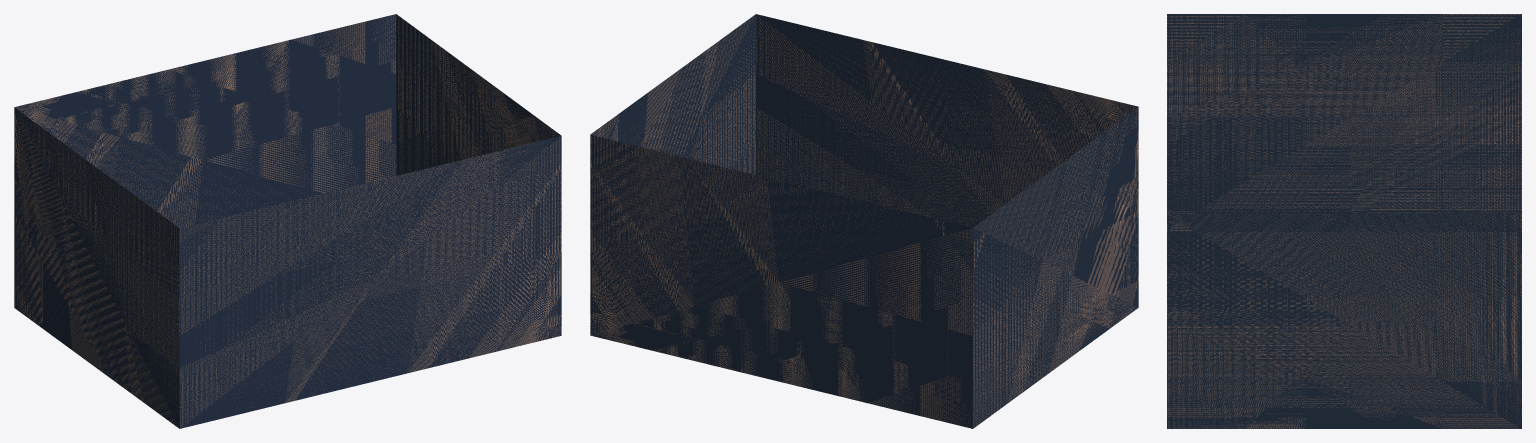
File: dustbin.dae
3 views of the same model, side by side, from view 1: azimuth 30°, elevation 25°; view 2: azimuth 150°, elevation 25°; view 3: azimuth 270°, elevation 25° (orthographic). The views are drawn at different scales.
Visible parts, largest first — view 1: SketchUp; view 2: SketchUp; view 3: SketchUp.
Part boxes in pixels (<box>): SketchUp: <box>14,14,561,428</box>; SketchUp: <box>590,14,1138,428</box>; SketchUp: <box>1167,14,1521,428</box>.
Bounding box in the file's own units: 15.75 × 11.81 × 7.9.
